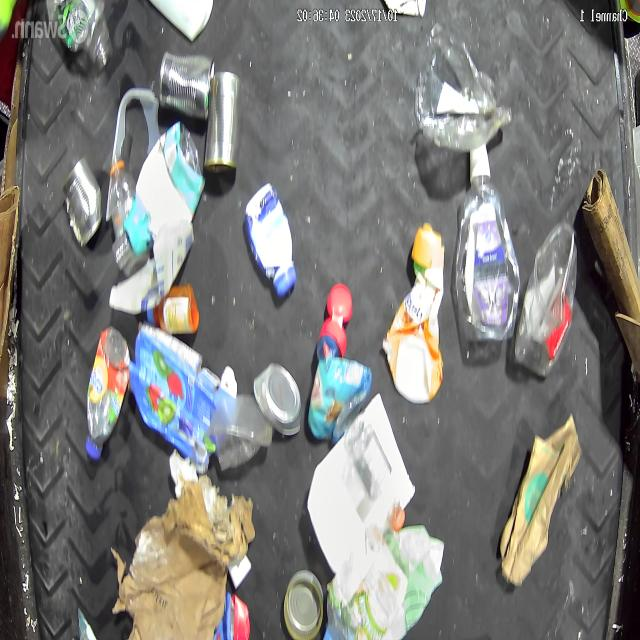can: (201, 71, 242, 178), (158, 51, 213, 123), (63, 156, 104, 248), (253, 362, 302, 436), (281, 568, 324, 639)
non_white_jug: (386, 222, 444, 405)
plastic_bottle: (455, 145, 518, 338), (85, 323, 132, 464)
